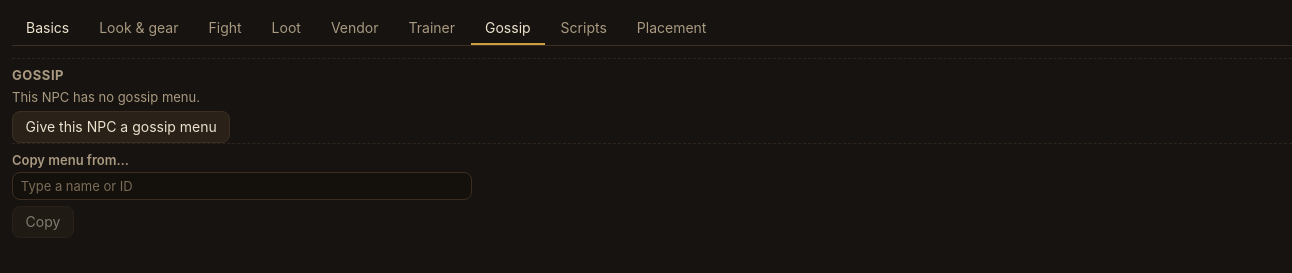
the Gossip tab: making and editing a menu › says so, and changes nothing, when no ids could be got
The image size is (1292, 273).
Click the button "Give this NPC a gossip menu". click: point(121, 127)
box: [12,111,230,143]
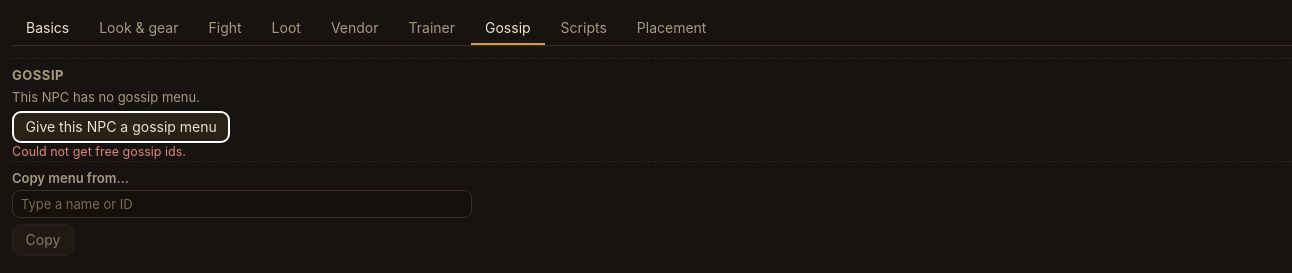
Check: the message reads "Could not get free gossip ids.", box [12,144,186,159]
